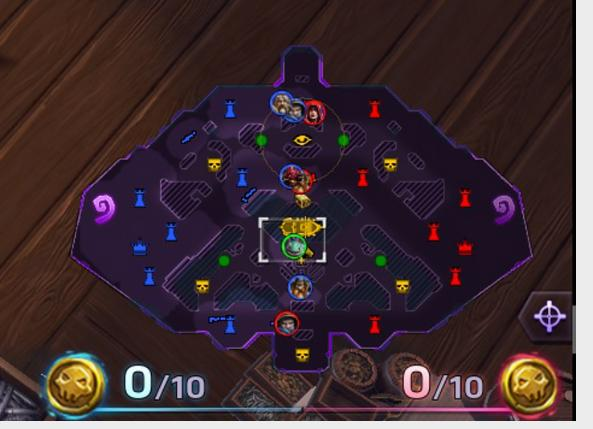blue player: (269, 90, 299, 120), (279, 163, 309, 192), (287, 274, 312, 300), (288, 100, 306, 122)
red player: (273, 310, 302, 338), (303, 100, 326, 126), (278, 316, 296, 334), (307, 103, 322, 123)
